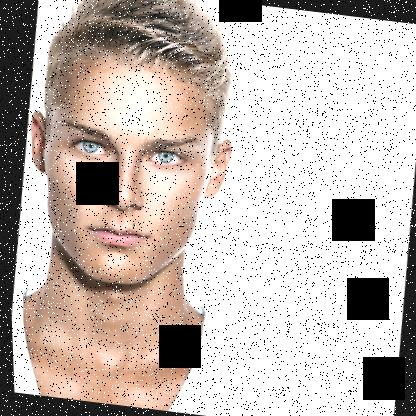Male: (7, 44, 245, 298)
